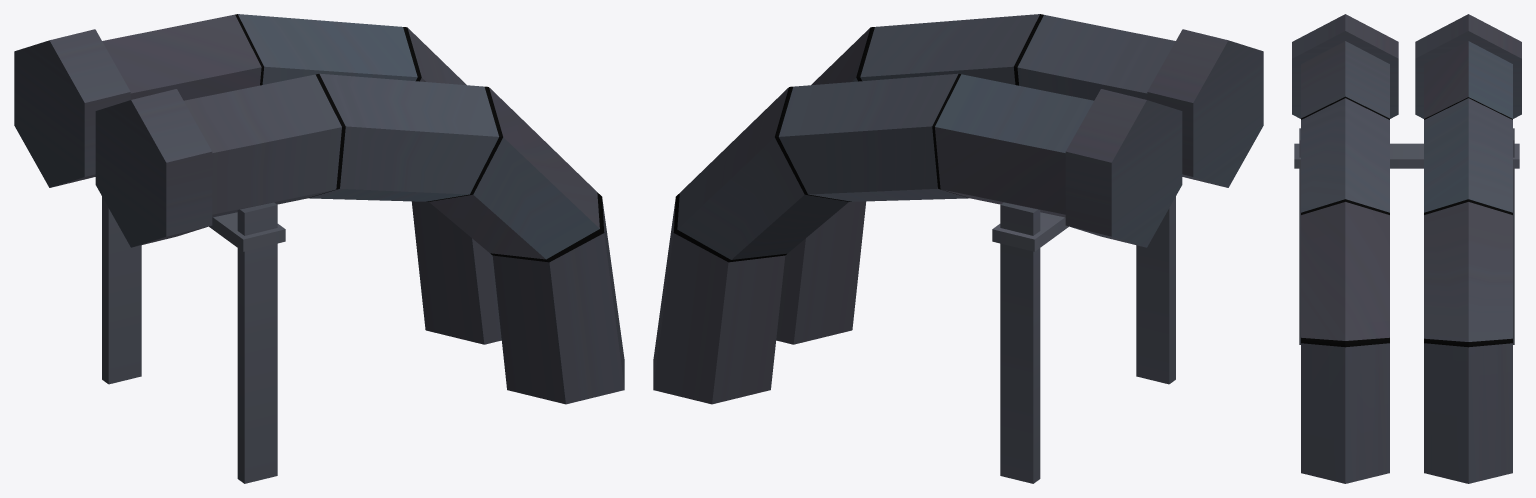
The model's file is SM_Pipe_3.FBX.
The picture shows the model from 3 angles, left to right: view 1: azimuth 30°, elevation 25°; view 2: azimuth 150°, elevation 25°; view 3: azimuth 270°, elevation 25°; orthographic projection. The views are drawn at different scales.
Parts seen in each view (by area): view 1: SM_Pipe_3; view 2: SM_Pipe_3; view 3: SM_Pipe_3.
Boxes of the visible parts, x1=… form: SM_Pipe_3: x1=14, y1=14, x2=624, y2=483; SM_Pipe_3: x1=653, y1=14, x2=1263, y2=483; SM_Pipe_3: x1=1292, y1=14, x2=1521, y2=483.
Size of what is drawn, in the model's own units: 336 by 179 by 248.
